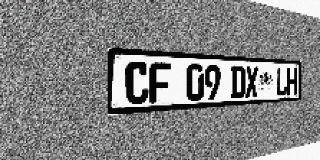0: (186, 64, 204, 101)
9: (204, 64, 221, 100)
C: (125, 61, 149, 105)
D: (231, 66, 245, 99)
F: (150, 62, 171, 103)
H: (287, 68, 297, 95)
L: (276, 67, 287, 96)
X: (245, 66, 258, 98)
